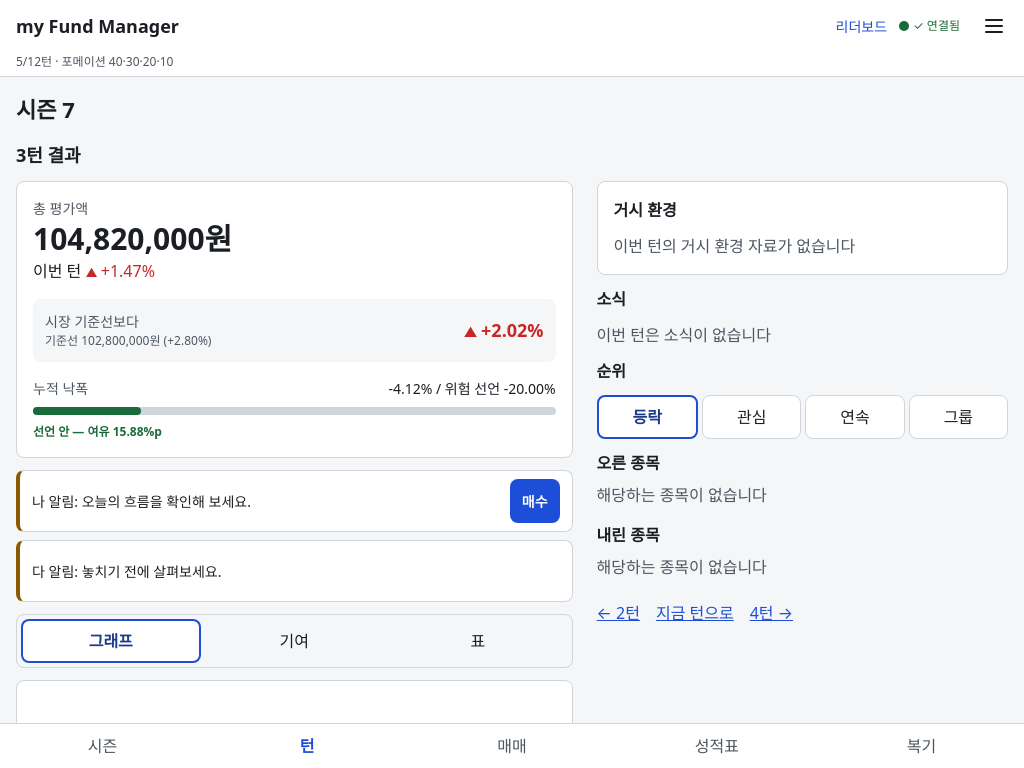
it: alert orders on a past-turn page › shows the stale-screen notice when an alert order meets TURN_MISMATCH (empty feed)
Click the button with aria-label "종목 나 매수".
click(535, 501)  # box [510,479,560,523]
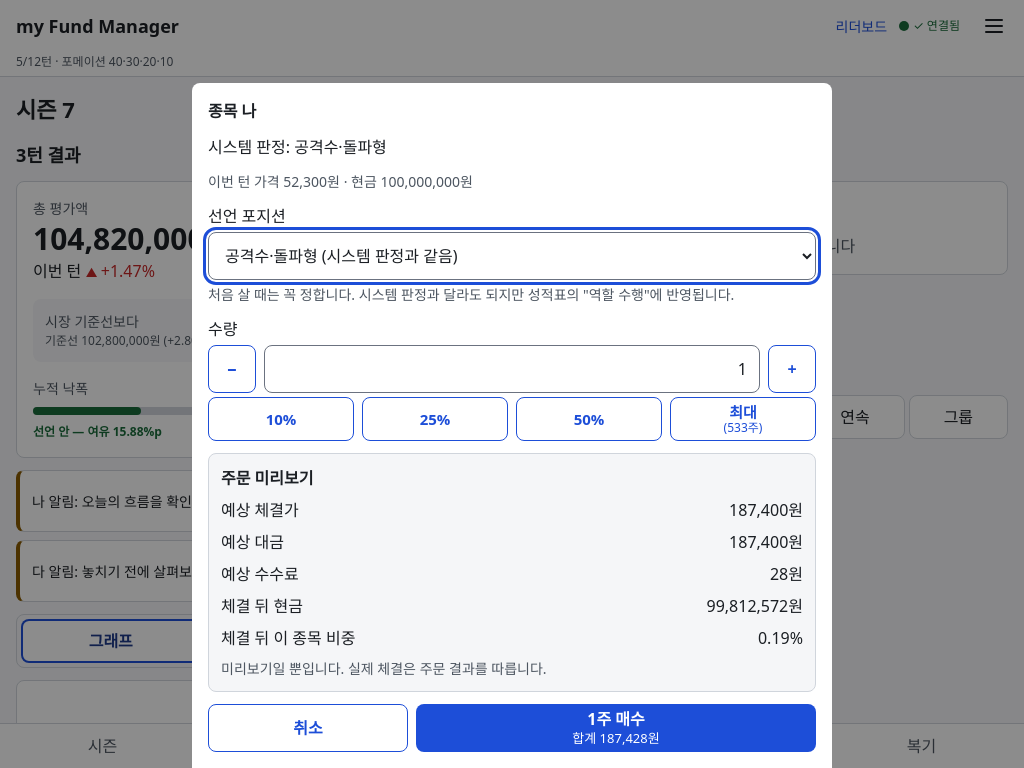
Click the button "1주 매수 합계 187,428원".
click(616, 728)  # box [416,704,816,752]
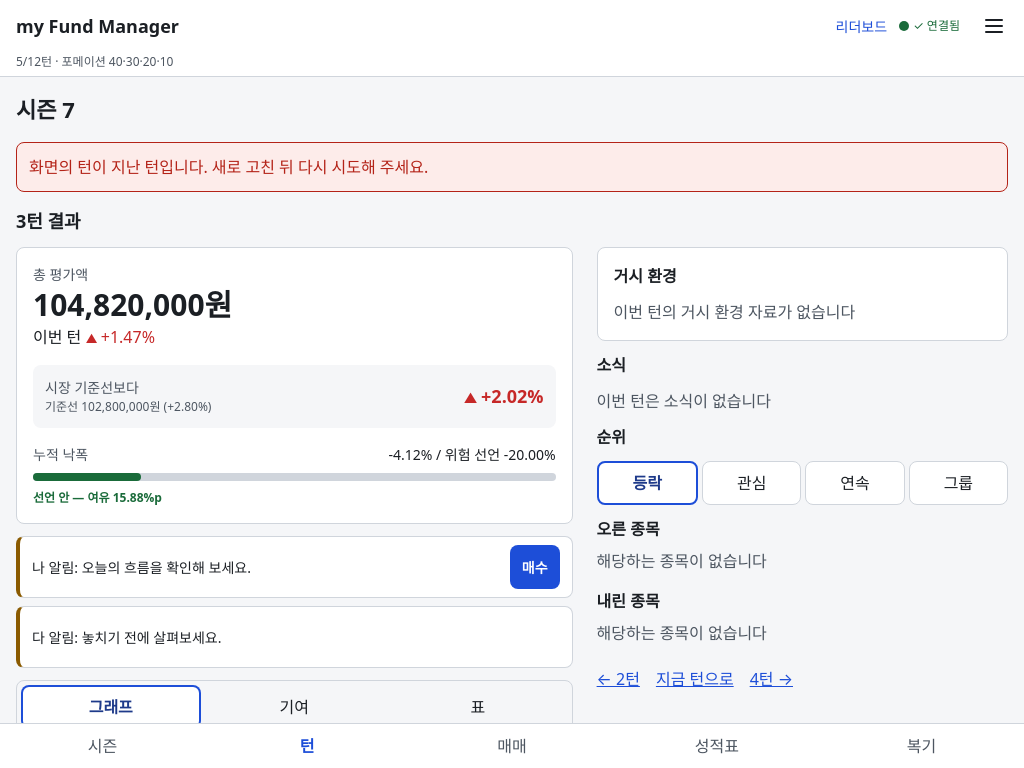
Result: the dialog is gone
Result: the message "화면의 턴이 지난 턴입니다. 새로 고친 뒤 다시 시도해 주세요." is shown at [16,142,1008,192]
